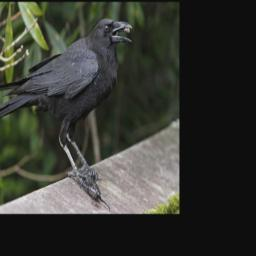Crow: (0, 17, 133, 189)
